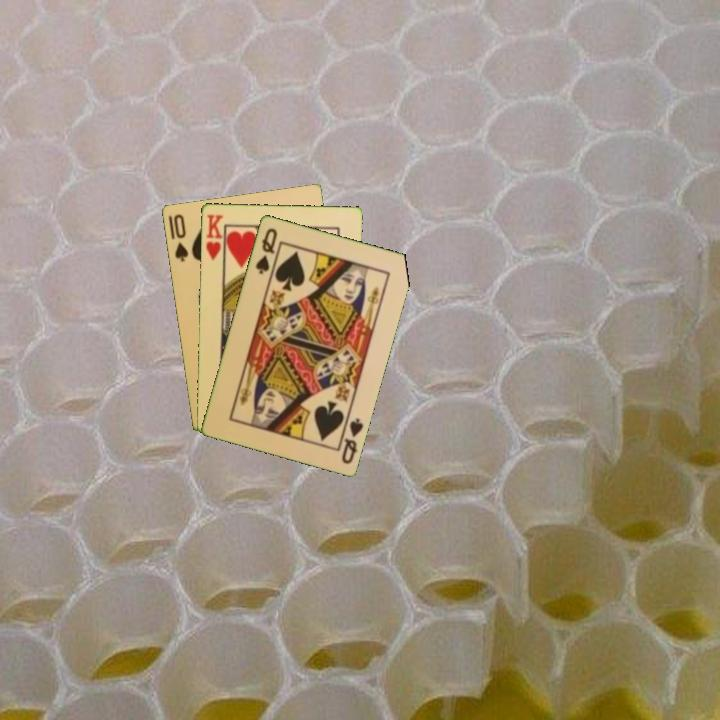10s: (170, 210, 191, 264)
Kh: (202, 211, 226, 266)
Qs: (252, 224, 280, 277), (338, 414, 366, 466)
